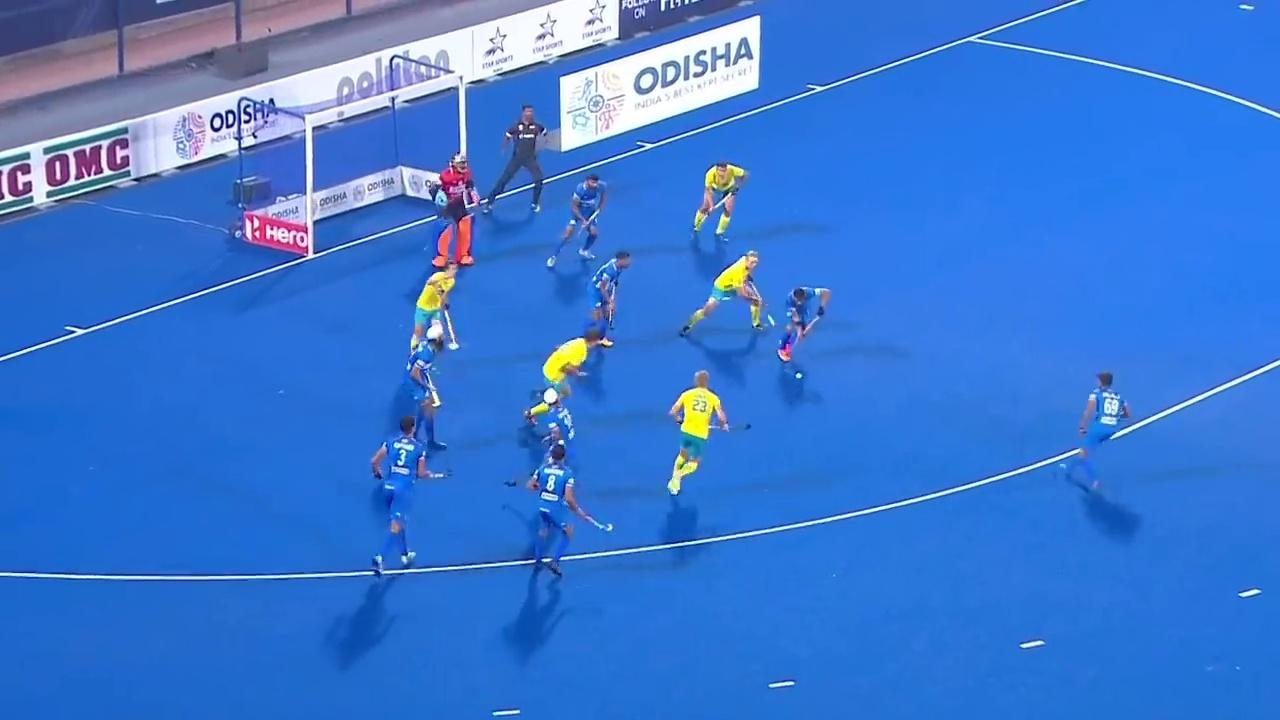ball: (787, 365, 811, 385)
